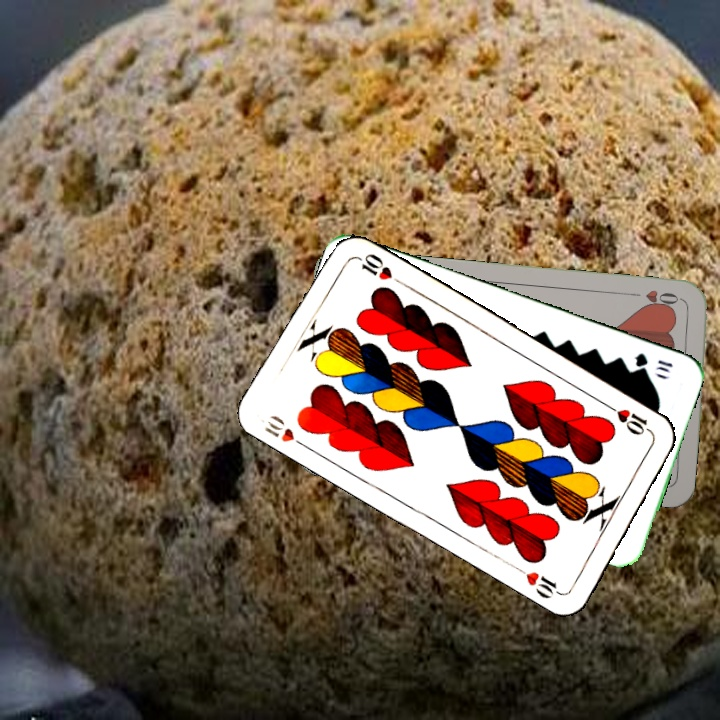G10: (631, 349, 676, 376)
H10: (260, 411, 311, 451), (603, 400, 656, 438)
HO: (626, 285, 686, 313)
